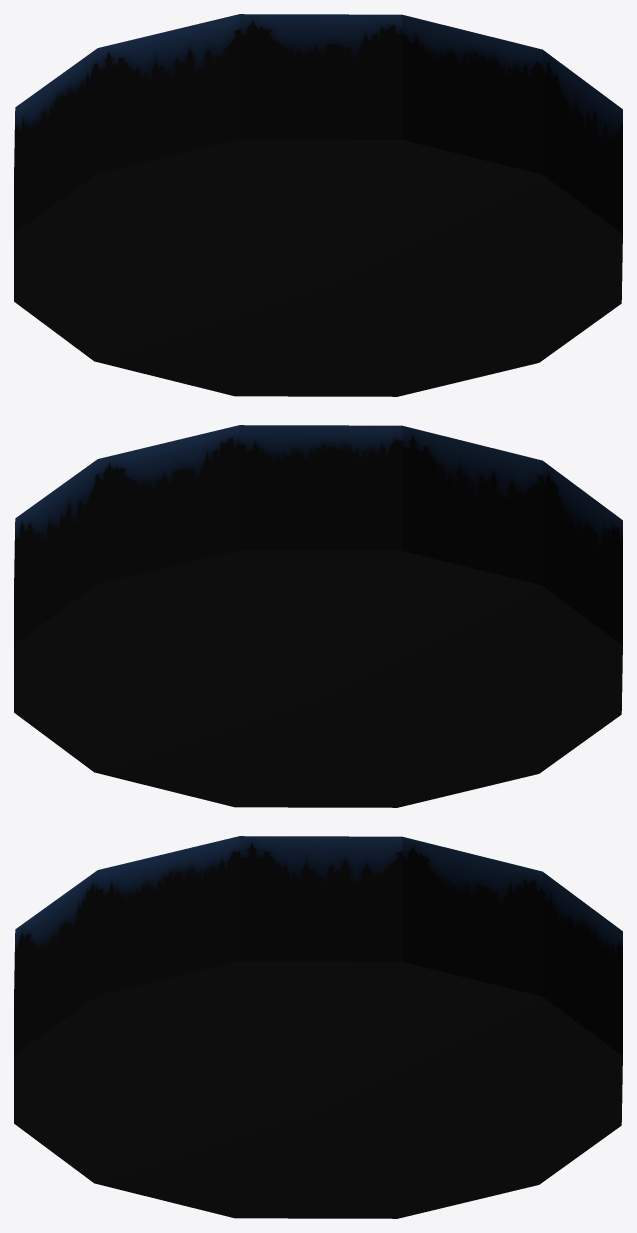
File: vrcorn.glb
The picture shows the model from 3 angles, top to bottom: view 1: azimuth 30°, elevation 25°; view 2: azimuth 150°, elevation 25°; view 3: azimuth 270°, elevation 25°; orthographic projection.
Visible parts, largest first — view 1: polygon0; view 2: polygon0; view 3: polygon0.
Boxes of the visible parts, x1=… form: polygon0: x1=14, y1=14, x2=622, y2=396; polygon0: x1=14, y1=425, x2=622, y2=807; polygon0: x1=14, y1=836, x2=622, y2=1218.
Size of the model in its own units: 580 by 174 by 580.
1 material, 1 textured.
